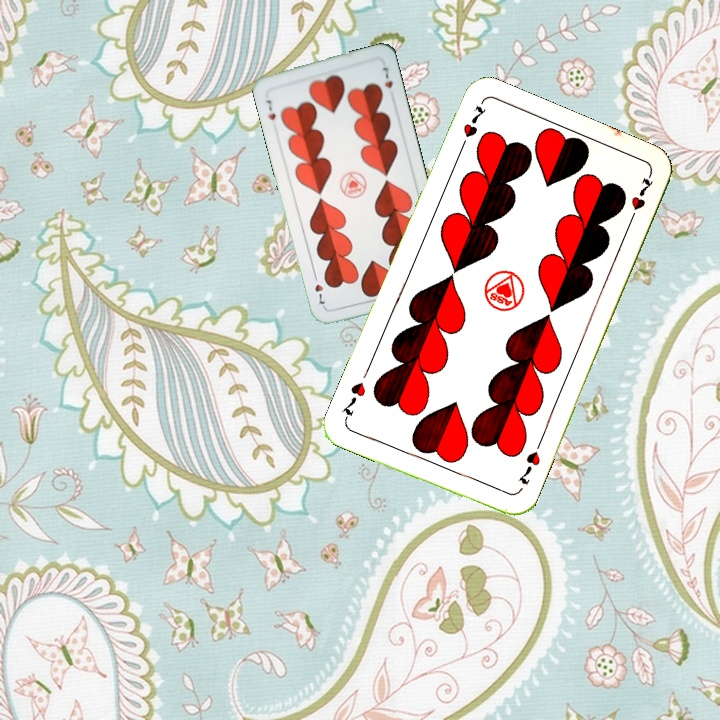H7: (455, 101, 489, 155), (514, 446, 543, 488), (262, 96, 278, 122)
